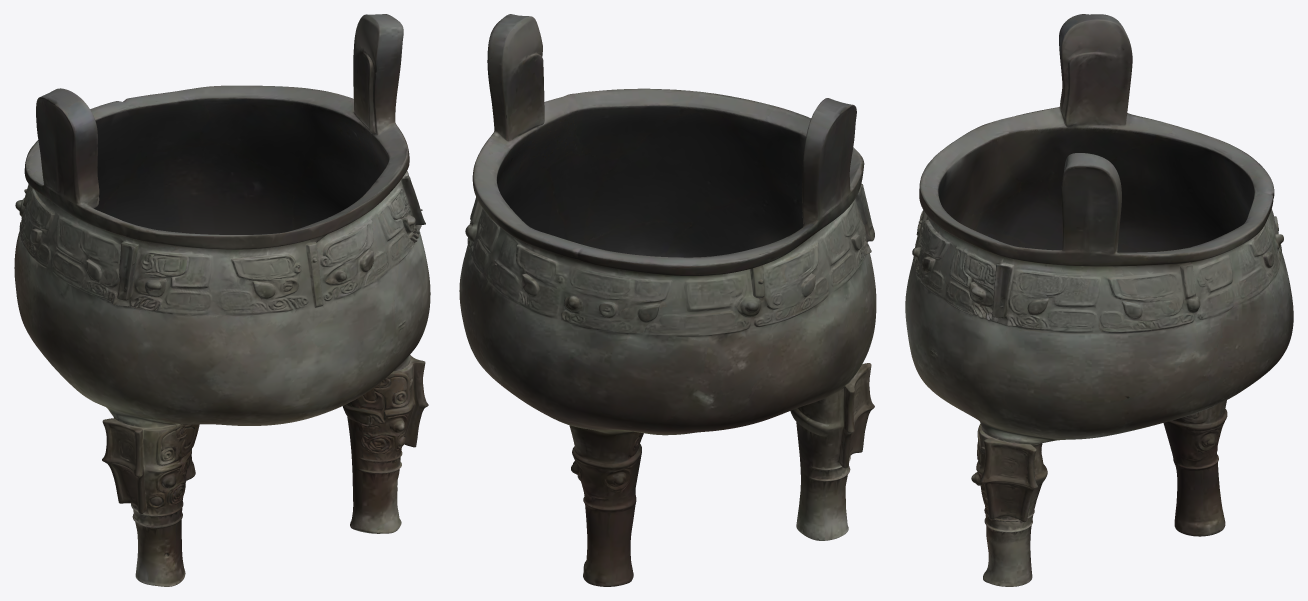
3 views of the same model, side by side, from view 1: azimuth 30°, elevation 25°; view 2: azimuth 150°, elevation 25°; view 3: azimuth 270°, elevation 25° (orthographic). The views are drawn at different scales.
Parts seen in each view (by area): view 1: node_0; view 2: node_0; view 3: node_0.
Boxes of the visible parts, box(x1,y1,x2,y2) form: node_0: box(14, 14, 430, 586); node_0: box(459, 14, 876, 586); node_0: box(905, 14, 1293, 586).
Bounding box in the file's own units: 0.7551 × 0.9691 × 0.7659.
1 material, 1 textured.
